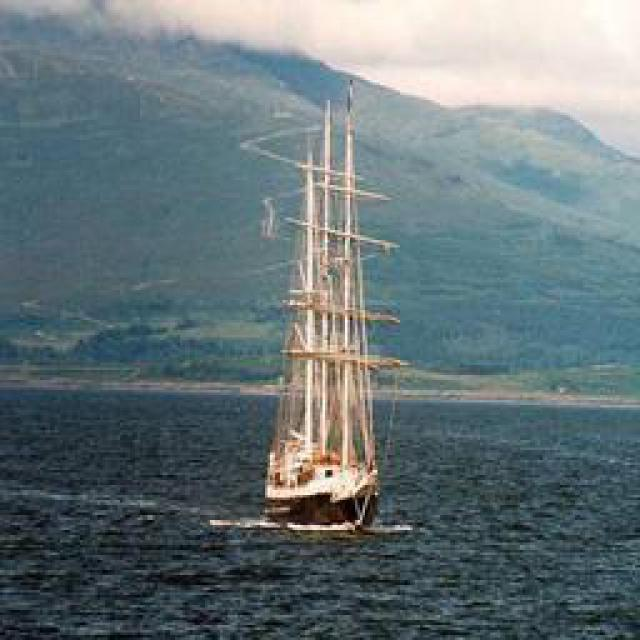Ship: (244, 60, 407, 540)
